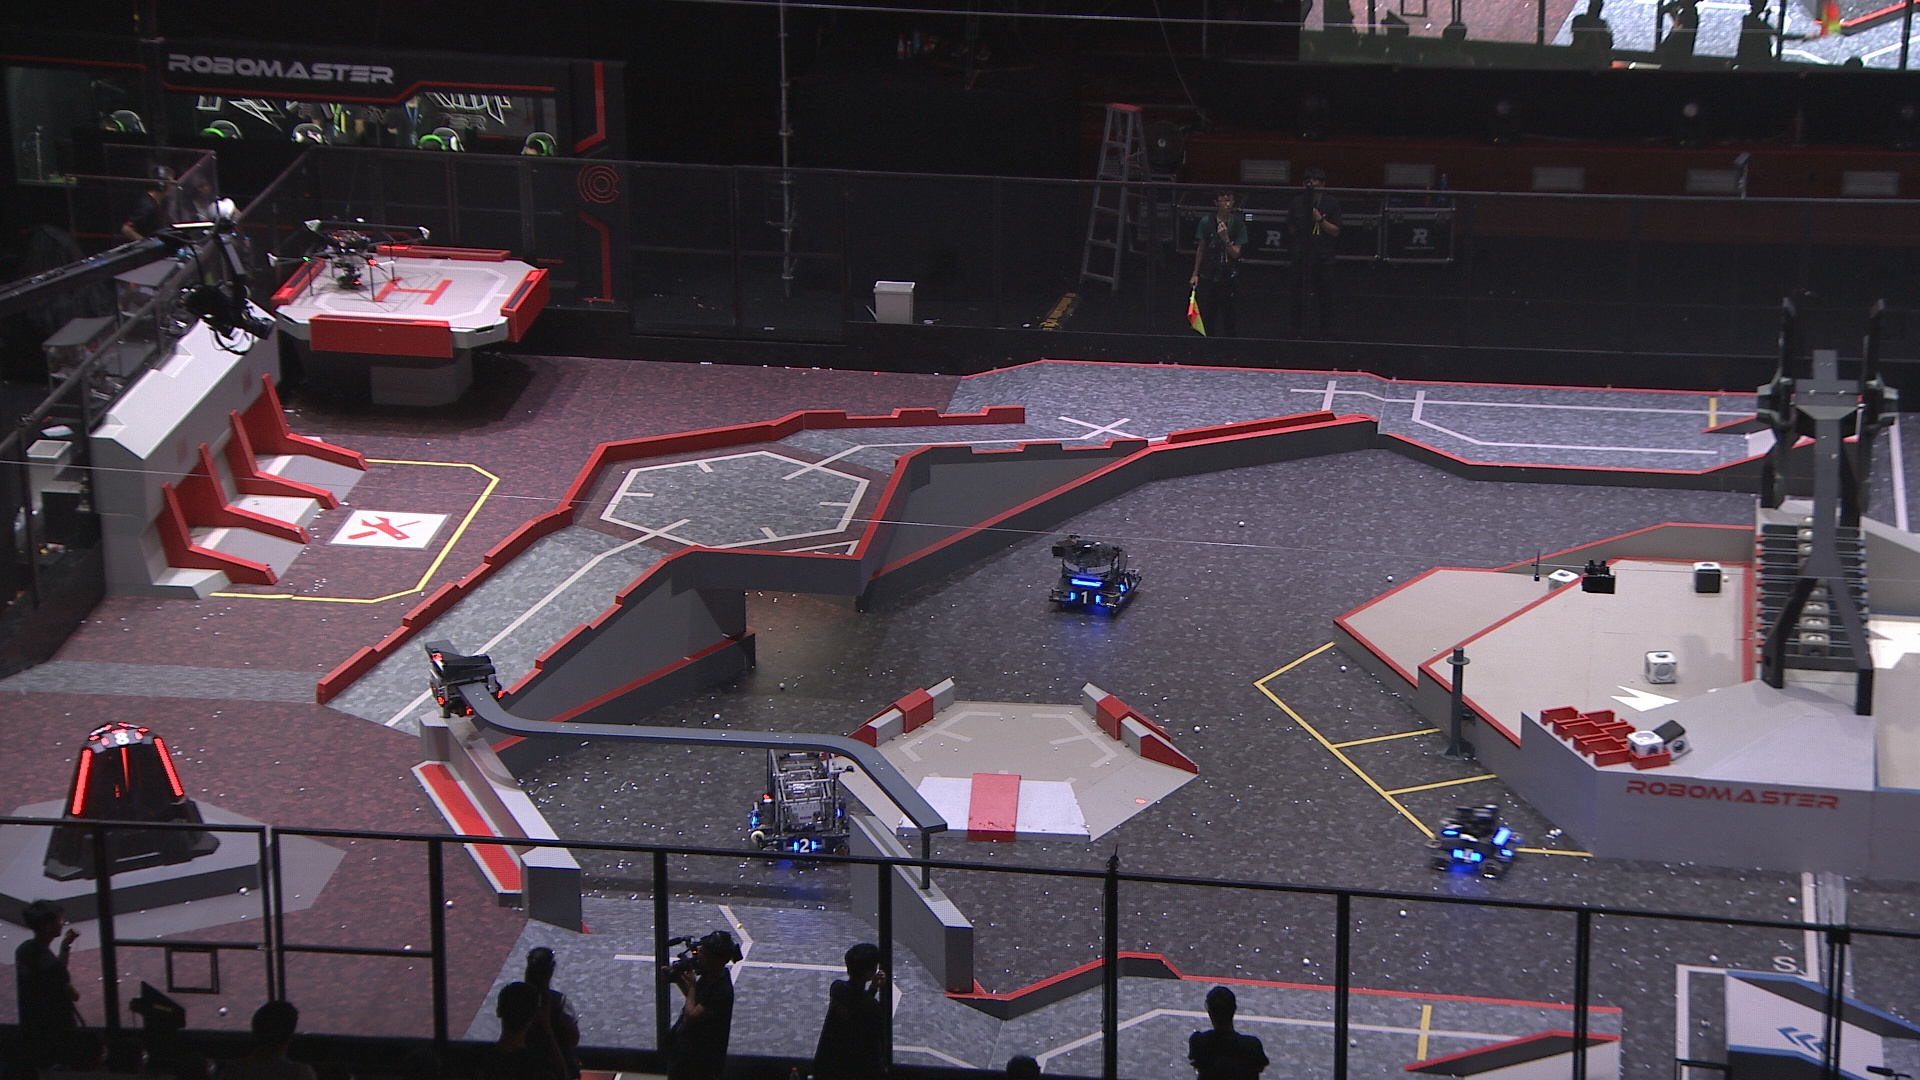armor: (152, 736, 186, 796), (67, 746, 92, 818), (98, 728, 144, 746), (1452, 845, 1484, 865), (117, 746, 131, 793), (425, 679, 446, 707), (1069, 589, 1102, 605), (790, 837, 818, 855), (1443, 822, 1462, 837), (1120, 575, 1134, 593)
base: (38, 721, 219, 880)
car: (746, 745, 851, 866), (1043, 533, 1145, 617), (1423, 802, 1522, 878)
watcher: (423, 650, 505, 719)
